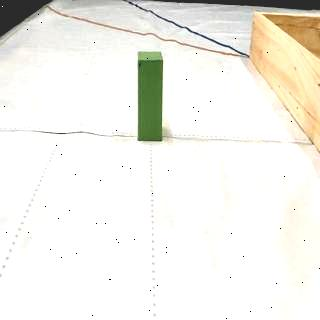greenbox: (138, 52, 164, 140)
